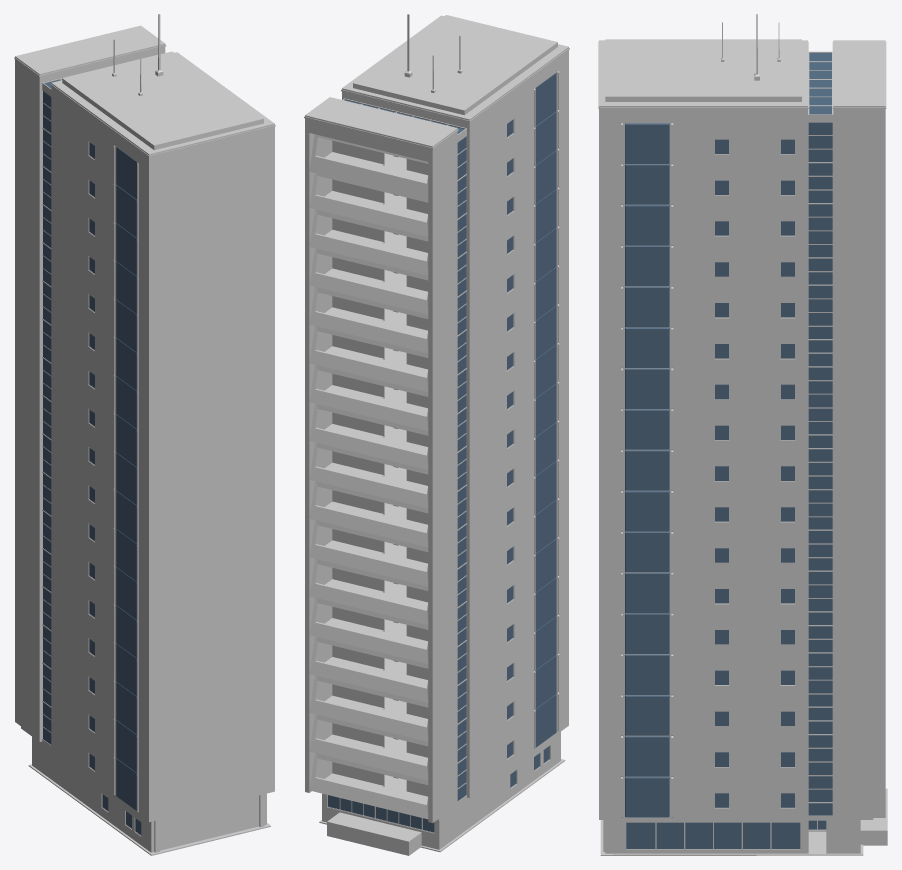
Rendered from res_08.glb.
3 renders of one model, left to right at view 1: azimuth 30°, elevation 25°; view 2: azimuth 150°, elevation 25°; view 3: azimuth 270°, elevation 25°, orthographic. The views are drawn at different scales.
Parts seen in each view (by area): view 1: Residential Buildings 008; view 2: Residential Buildings 008; view 3: Residential Buildings 008.
Part boxes in pixels (x1,y1,x2,y2): Residential Buildings 008: [14, 14, 275, 855]; Residential Buildings 008: [304, 14, 569, 855]; Residential Buildings 008: [598, 14, 887, 855].
Size of the model in its own units: 12.59 by 72.39 by 23.09.
